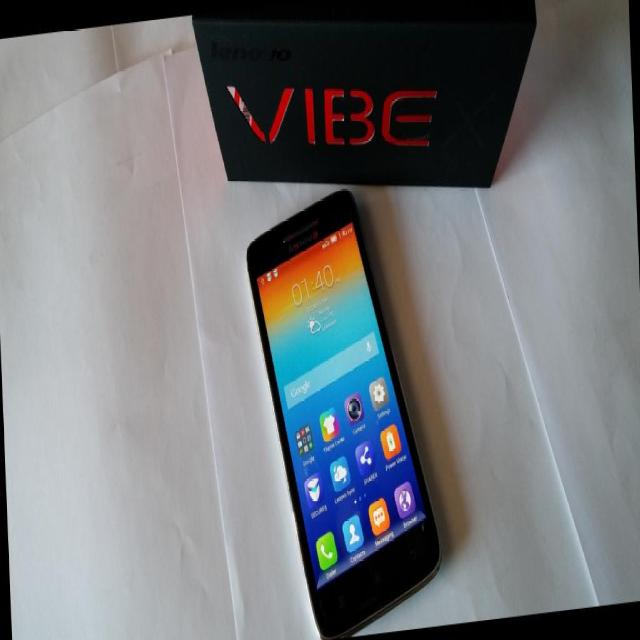handphone: (248, 192, 440, 618)
